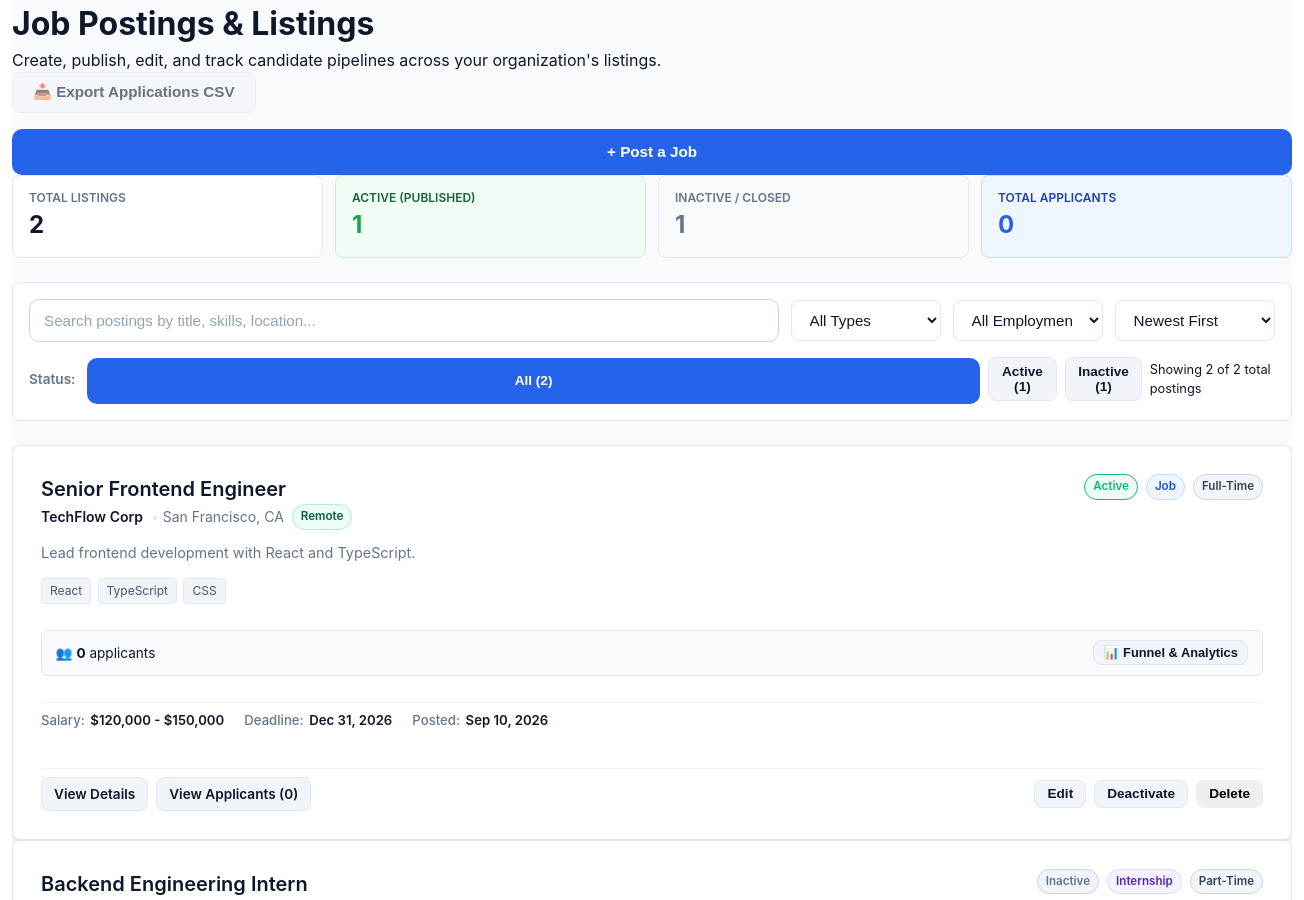
Test: RecruiterJobsPage Component › preserves valid state and displays error toast when status toggle mutation fails
This screenshot has width=1304, height=900.
Click the button with test id "toggle-active-btn-101" at (1141, 794), box [1094, 780, 1188, 808]
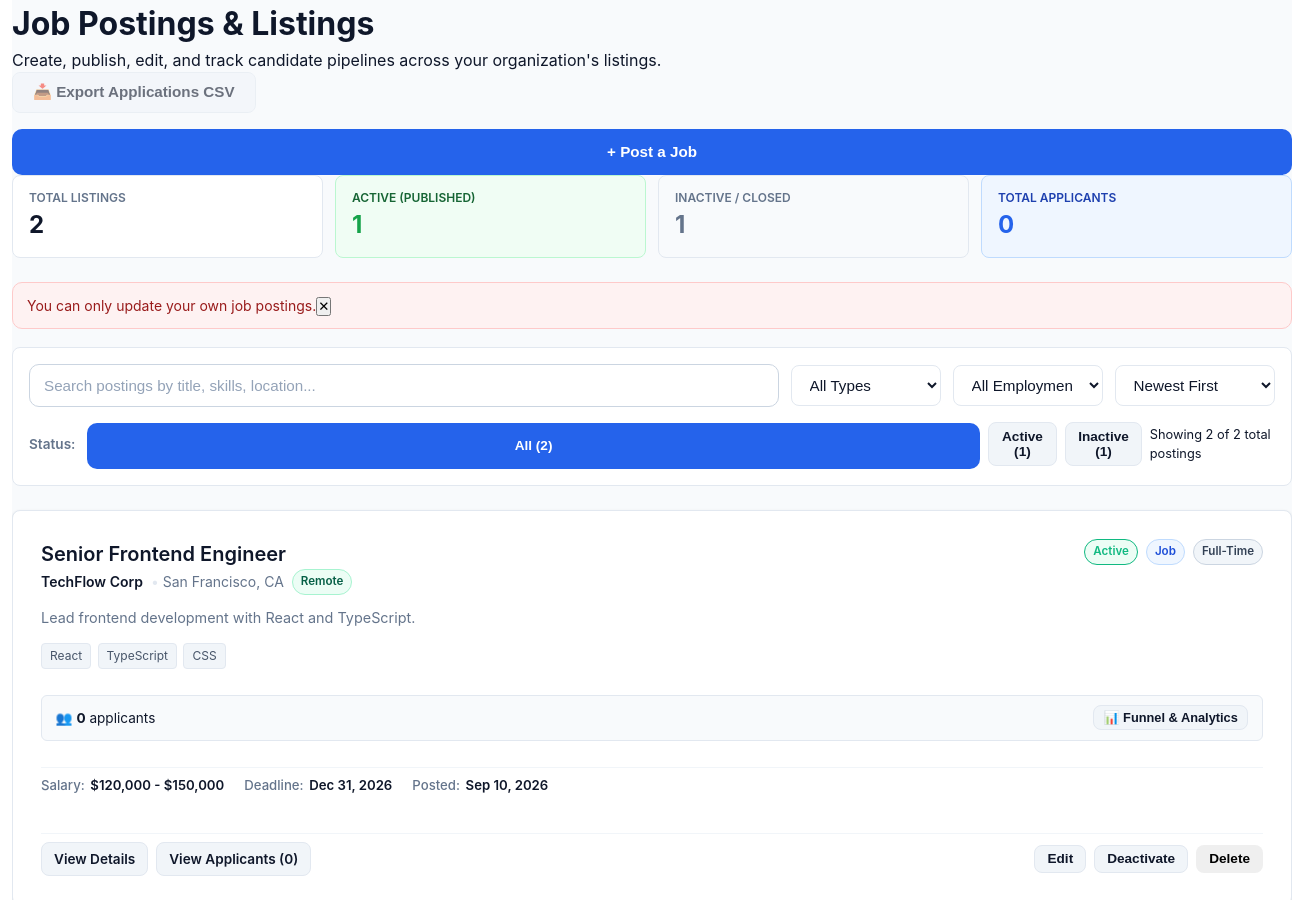
Expected: the text with test id "status-badge-101" reads "Active", [1093, 544, 1129, 558]
Now the message with test id "recruiter-jobs-toast" shows "You can only update your own job postings.", box [27, 297, 316, 314]
